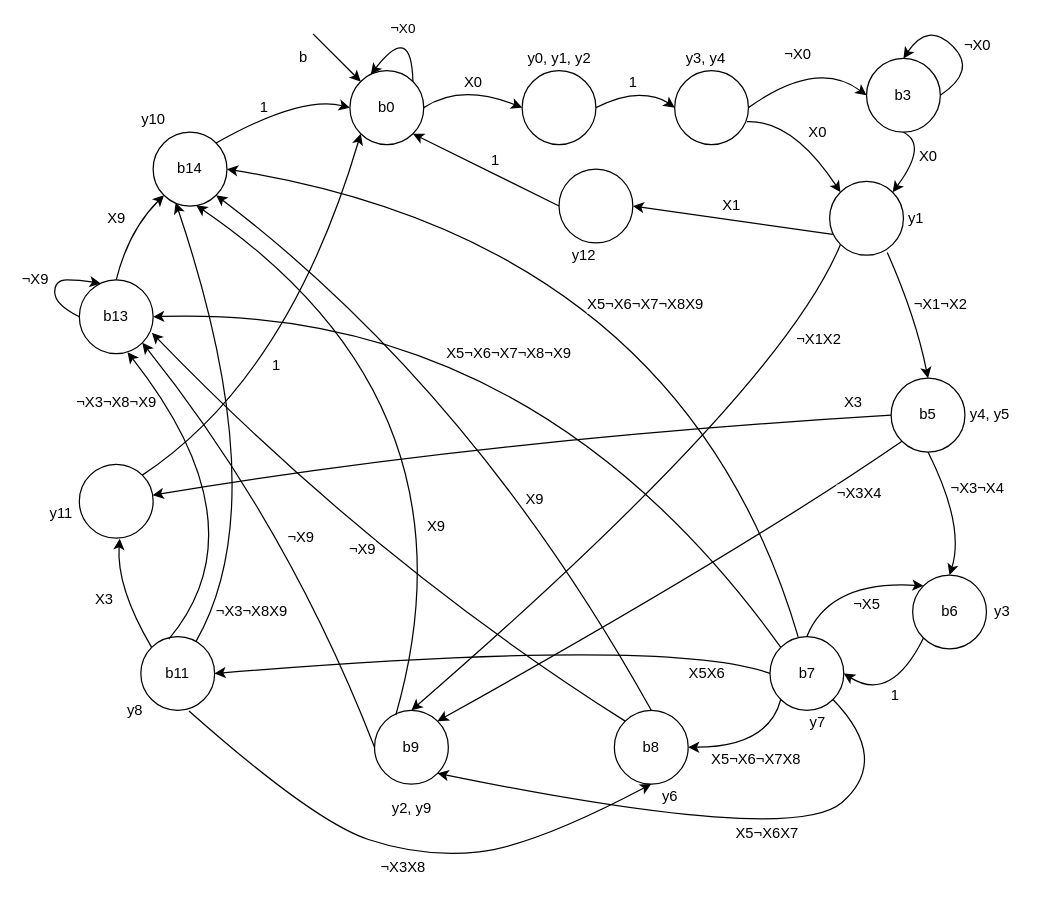
Some shapes in this 1042 by 898 pixel diagram are drawn without their labels. Here are the shapes that lost their labels. From the top down, the centre of each, then its label:
At [558,107]: "b1".
At [710,107]: "b2".
At [595,205]: "b10".
At [865,217]: "b4".
At [115,500]: "b12".
